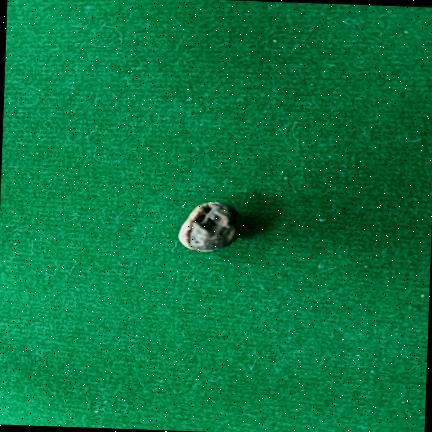partial-black: (179, 202, 243, 252)
